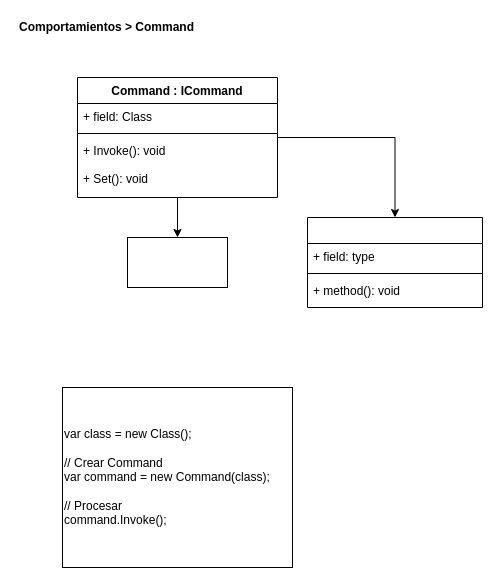
This 500x585 diagram has some shape labels left out. Here are the shapes that lost their labels. From the top down, the box of each, then its label:
(126, 236, 228, 288): «interface» ICommand
(306, 216, 482, 308): Class
